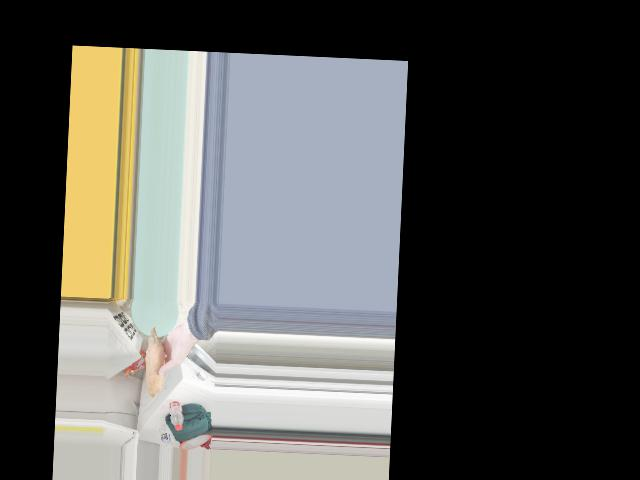sweet_potato: (144, 332, 168, 389)
